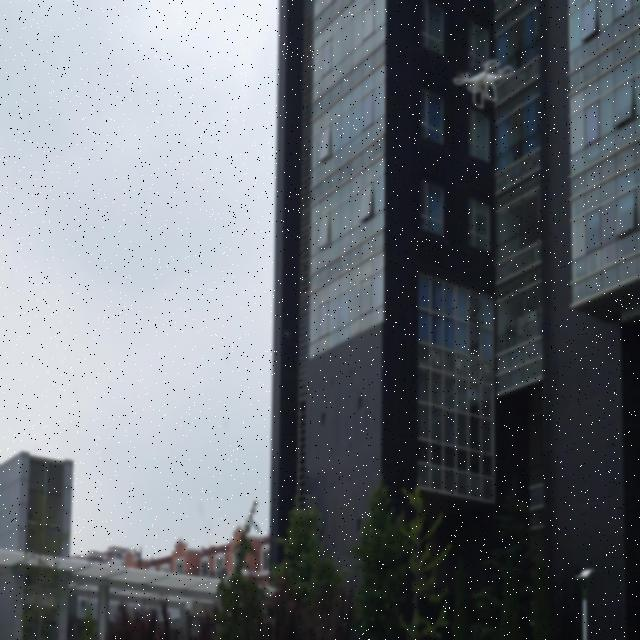UAV: (453, 59, 514, 110)
